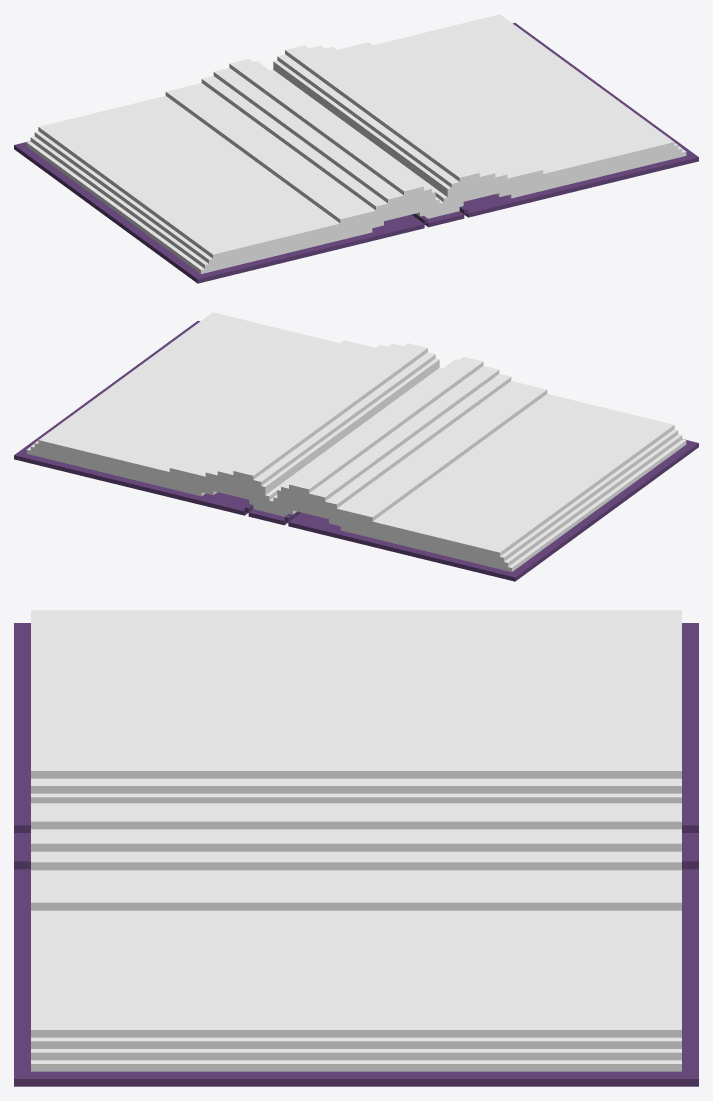
Rendered from Book1-4.fbx.
3 renders of one model, top to bottom at view 1: azimuth 30°, elevation 25°; view 2: azimuth 150°, elevation 25°; view 3: azimuth 270°, elevation 25°, orthographic. The views are drawn at different scales.
Parts seen in each view (by area): view 1: Book1-4; view 2: Book1-4; view 3: Book1-4.
Boxes of the visible parts, box(x1,y1,x2,y2) form: Book1-4: box(14, 14, 698, 283); Book1-4: box(14, 312, 698, 581); Book1-4: box(14, 610, 698, 1086).
Bounding box in the file's own units: 12.6 × 0.9 × 8.
